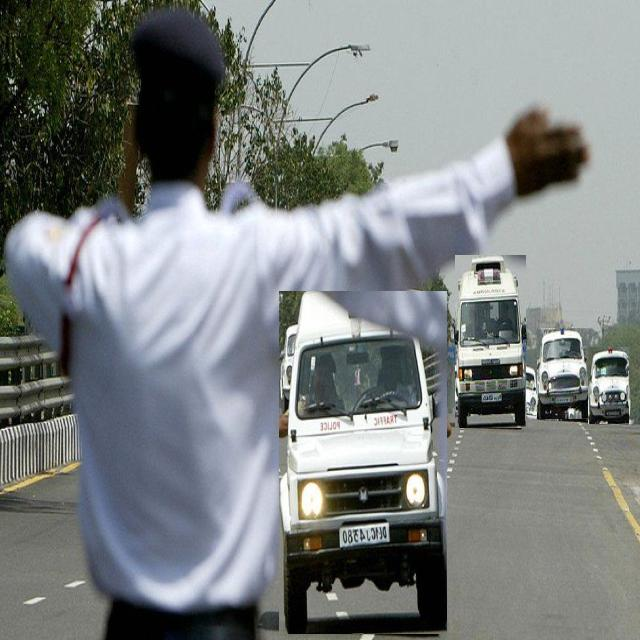car: (280, 291, 447, 634), (538, 329, 589, 419), (589, 347, 629, 424)
emergency: (455, 255, 526, 428)
